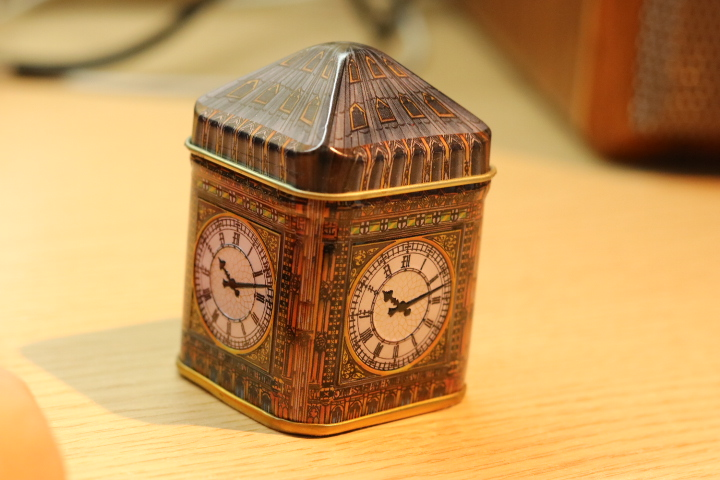Big Ben: (171, 39, 503, 443)
